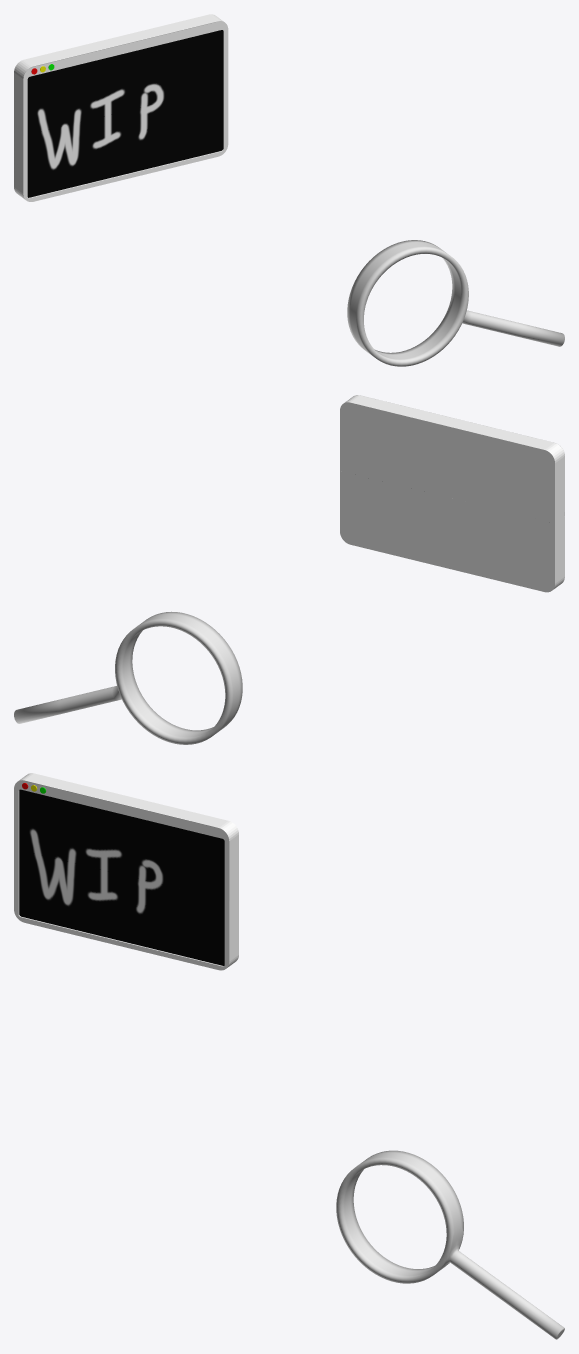
3 renders of one model, top to bottom at view 1: azimuth 30°, elevation 25°; view 2: azimuth 150°, elevation 25°; view 3: azimuth 330°, elevation 25°, orthographic. The views are drawn at different scales.
Parts seen in each view (by area): view 1: ScreenBottom, ScreenTop, MagnifyingGlass, Top, Bottom; view 2: Top, Bottom, MagnifyingGlass; view 3: ScreenBottom, ScreenTop, MagnifyingGlass, Top, Bottom.
Part boxes in pixels (x1,y1,x2,y2): ScreenBottom: (27,87,223,197); ScreenTop: (27,30,223,134); MagnifyingGlass: (347,240,564,366); Top: (14,14,228,136); Bottom: (14,87,228,201); Top: (340,395,564,523); Bottom: (340,471,564,592); MagnifyingGlass: (14,611,242,744); ScreenBottom: (19,850,224,965); ScreenTop: (19,789,224,899); MagnifyingGlass: (336,1150,564,1339); Top: (14,773,238,901); Bottom: (14,849,238,970).
Bounding box in the file's own units: 9.27 × 6.66 × 0.7206.
4 materials, 2 textured.
